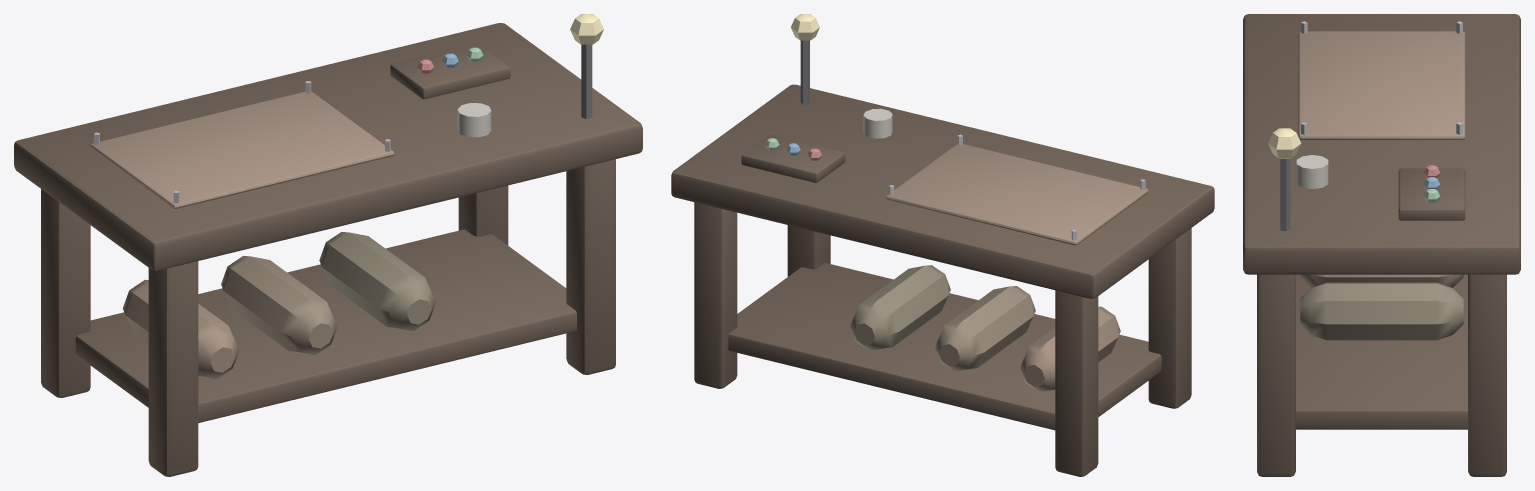
The model's file is crafting_table.gltf.
3 views of the same model, side by side, from view 1: azimuth 30°, elevation 25°; view 2: azimuth 150°, elevation 25°; view 3: azimuth 270°, elevation 25° (orthographic). The views are drawn at different scales.
Visible parts, largest first — view 1: Body; view 2: Body; view 3: Body.
Part boxes in pixels (bbox=[...]): Body: bbox=[14, 14, 642, 476]; Body: bbox=[671, 14, 1214, 476]; Body: bbox=[1243, 14, 1520, 476].
Size of the model in its own units: 2 by 1.36 by 1.
